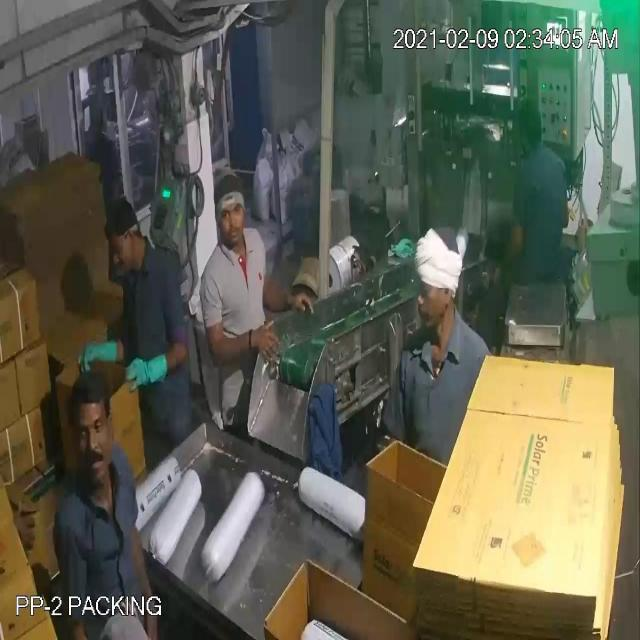No_Gloves: (47, 49, 510, 372)
